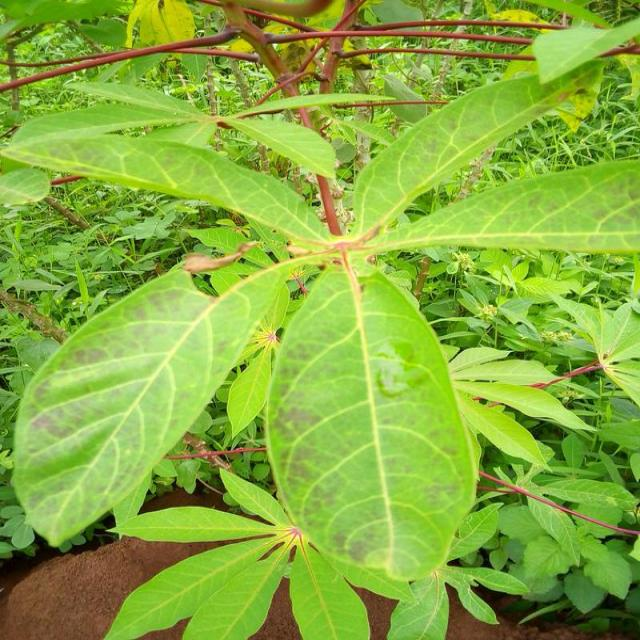cassava leaf: (12, 257, 290, 549), (266, 259, 479, 592)
